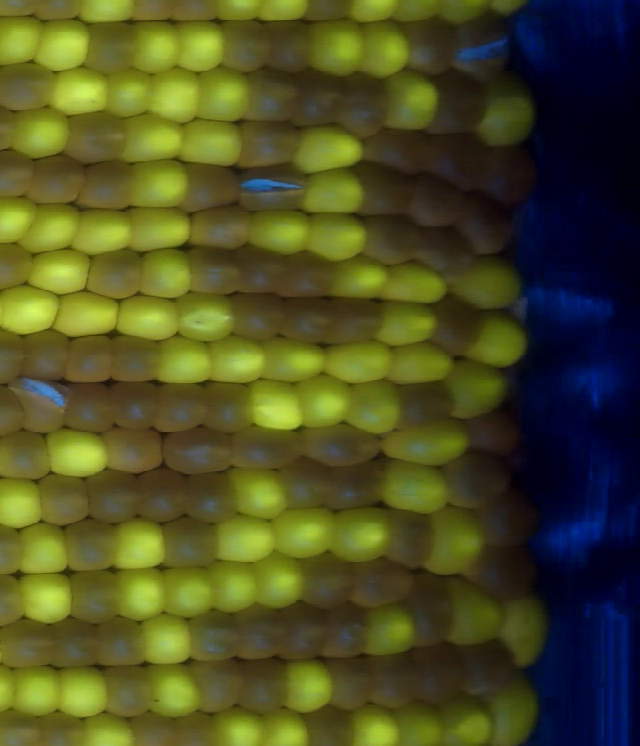fluorescent: (444, 351, 511, 418), (381, 454, 453, 514), (386, 418, 470, 469), (39, 424, 112, 482), (428, 507, 486, 578), (144, 653, 199, 727), (454, 257, 522, 316), (332, 501, 392, 566), (450, 572, 499, 651), (291, 120, 365, 172), (0, 277, 62, 338), (325, 334, 392, 390), (381, 254, 449, 309), (230, 462, 288, 525), (114, 291, 182, 344), (258, 334, 327, 386), (181, 112, 241, 171), (301, 162, 369, 214), (54, 661, 111, 722), (208, 514, 276, 565), (488, 678, 539, 746), (304, 19, 367, 74), (118, 111, 183, 164), (340, 378, 397, 438), (249, 375, 306, 435), (71, 203, 132, 259), (137, 611, 198, 667), (274, 504, 334, 560), (4, 104, 67, 157), (195, 64, 251, 123), (56, 288, 120, 339), (383, 338, 451, 386), (176, 286, 233, 343), (18, 569, 76, 625), (469, 314, 528, 369), (16, 520, 75, 575), (245, 203, 307, 255), (4, 660, 61, 716), (206, 333, 264, 388), (129, 155, 188, 209), (27, 197, 81, 256), (478, 91, 535, 146), (158, 328, 212, 386), (378, 297, 438, 349), (386, 70, 439, 128), (501, 598, 546, 666), (125, 204, 190, 250), (327, 254, 388, 303), (138, 248, 193, 302), (207, 562, 261, 617), (151, 67, 202, 125), (33, 246, 93, 295), (256, 551, 306, 608), (164, 562, 214, 619), (280, 659, 332, 713), (40, 13, 88, 71), (0, 474, 48, 532), (359, 18, 406, 77), (304, 211, 364, 257), (296, 372, 345, 427), (364, 599, 413, 654), (134, 19, 181, 75), (176, 18, 222, 75), (117, 569, 166, 622), (117, 517, 164, 570), (109, 67, 154, 122), (211, 707, 269, 746), (444, 695, 488, 746), (0, 12, 37, 70), (53, 70, 104, 112), (349, 703, 396, 746), (396, 698, 438, 746), (261, 708, 310, 746), (0, 195, 35, 241)
nonfluorescent: (298, 419, 385, 469), (445, 450, 514, 512), (465, 633, 518, 713), (406, 570, 456, 653), (292, 551, 358, 613), (409, 639, 467, 709), (474, 540, 538, 603), (337, 66, 388, 144), (455, 12, 513, 80), (391, 375, 459, 433), (56, 514, 120, 575), (8, 372, 70, 434), (397, 169, 462, 227), (62, 107, 128, 164), (59, 330, 119, 392), (134, 460, 192, 524), (62, 567, 127, 624), (229, 602, 290, 662), (86, 465, 143, 529), (161, 424, 229, 477), (178, 156, 238, 216), (353, 553, 417, 609), (275, 455, 335, 514), (380, 507, 435, 571), (430, 290, 481, 359), (237, 162, 306, 213), (228, 423, 301, 471), (62, 377, 120, 437), (467, 186, 514, 260), (403, 19, 458, 82), (433, 69, 485, 135), (37, 469, 95, 528), (476, 141, 530, 204), (102, 659, 155, 723), (424, 130, 483, 187), (202, 378, 259, 437), (154, 378, 211, 437), (76, 157, 137, 211), (232, 118, 295, 170), (180, 246, 243, 298), (183, 464, 235, 527), (88, 245, 146, 301), (354, 160, 409, 219), (360, 206, 414, 266), (323, 657, 372, 723), (366, 648, 416, 712), (91, 616, 151, 669), (291, 69, 343, 130), (107, 332, 164, 387), (0, 617, 55, 674), (244, 65, 298, 123), (332, 454, 386, 512), (220, 19, 271, 80), (22, 327, 71, 390), (280, 599, 329, 662), (161, 514, 219, 567), (49, 613, 97, 676), (234, 241, 286, 299), (83, 18, 133, 78), (25, 153, 85, 203), (187, 607, 235, 669), (277, 292, 334, 344), (327, 296, 383, 348), (235, 657, 286, 714), (0, 60, 56, 111), (280, 246, 330, 303), (185, 656, 235, 713), (230, 287, 278, 346), (412, 217, 464, 271), (264, 12, 307, 77), (188, 206, 251, 250), (106, 430, 167, 475), (0, 429, 51, 482), (472, 499, 533, 543), (459, 408, 518, 453), (113, 378, 162, 432), (324, 601, 366, 661), (369, 122, 419, 172), (0, 382, 35, 440), (0, 239, 34, 292), (0, 570, 30, 629), (0, 703, 39, 746), (0, 145, 32, 196)
